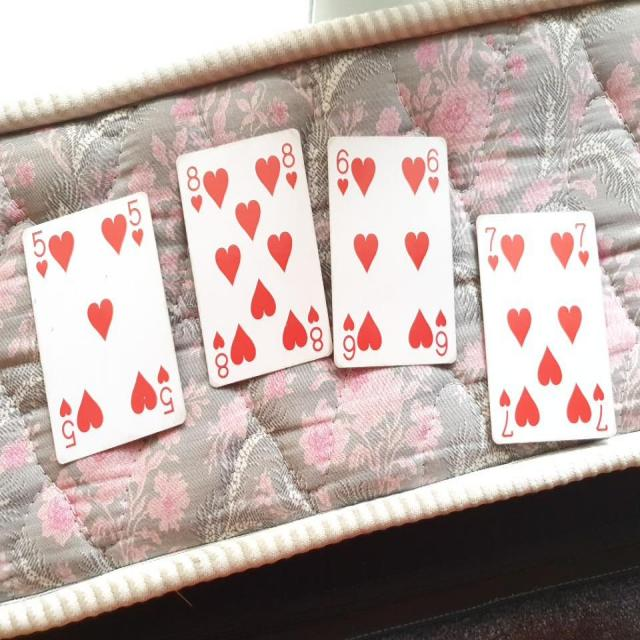5 Hearts: (28, 188, 184, 472)
6 Hearts: (324, 128, 460, 375)
7 Hearts: (478, 202, 619, 437)
8 Hearts: (165, 122, 337, 396)
